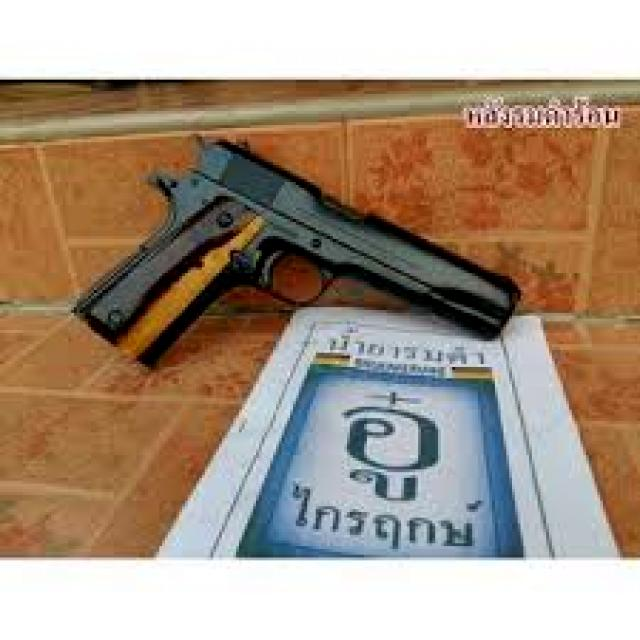semi automatic: (64, 118, 531, 379)
